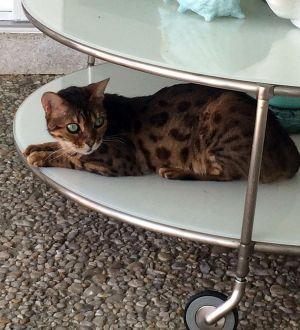bengal: (42, 77, 113, 161)
